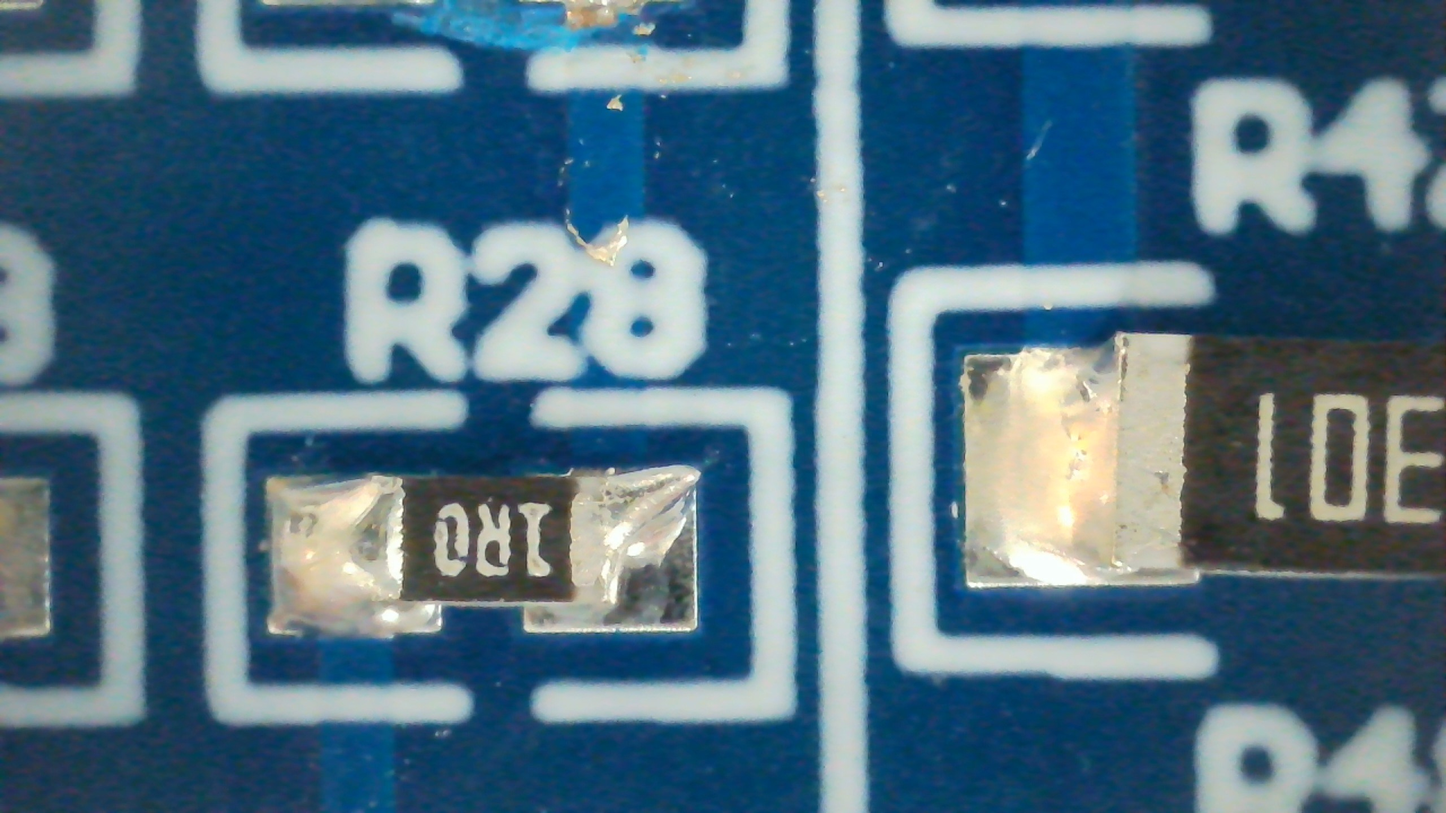OK: (268, 465, 699, 638)
